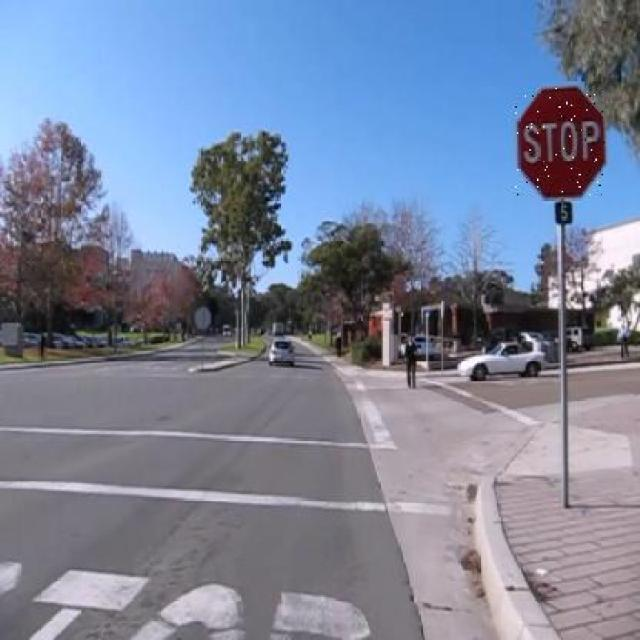stop: (516, 84, 606, 200)
